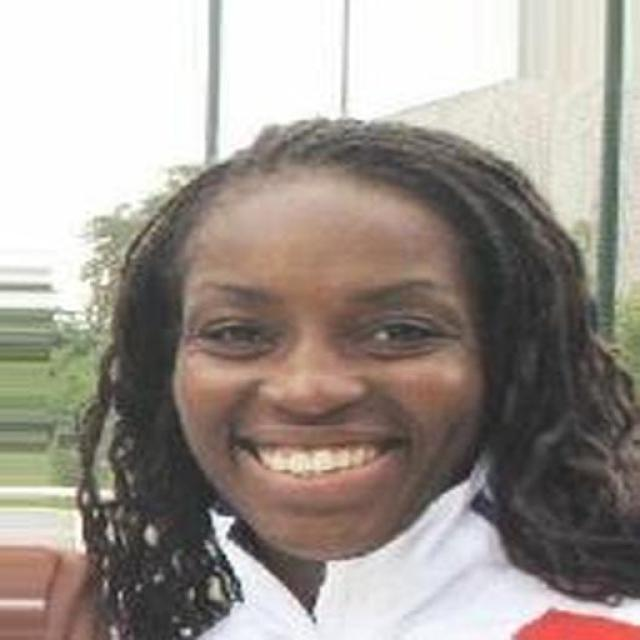bareface: (168, 110, 568, 530)
